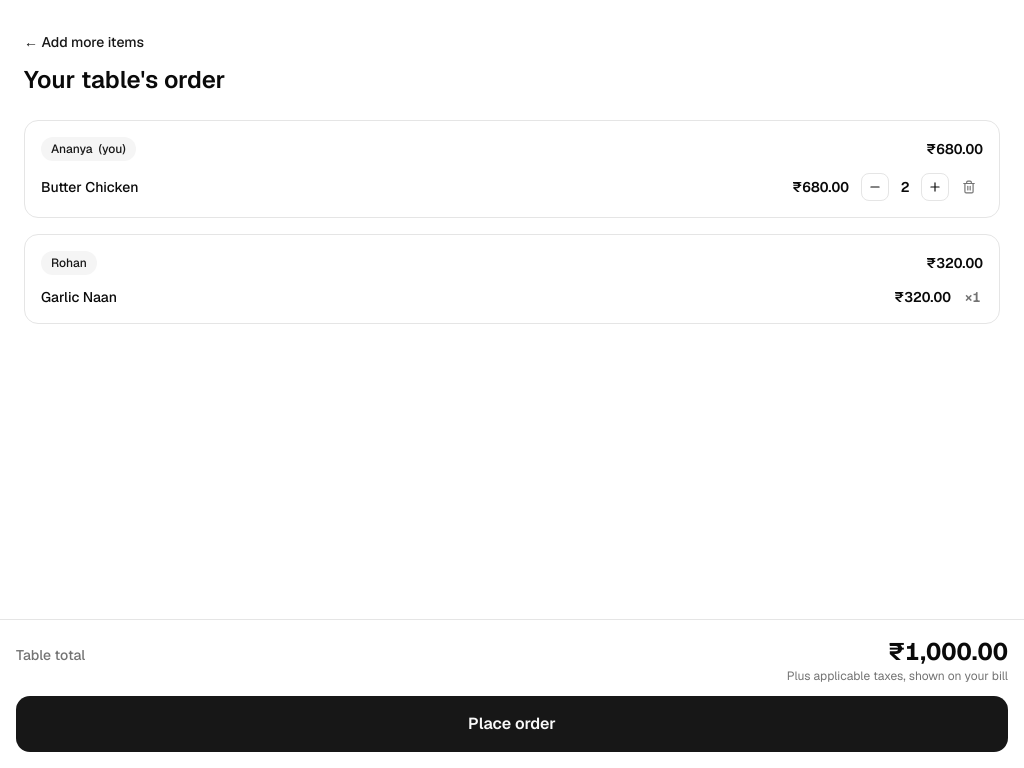
Test: CartScreen - Place order (CAP-4) › shows a plain inline error on no_price
Expected: the list item with test id "cart-line-l1" is shown, [41,173,983,201]
Click the button with test id "cart-place-order".
click(512, 724)  # box [16,696,1008,752]
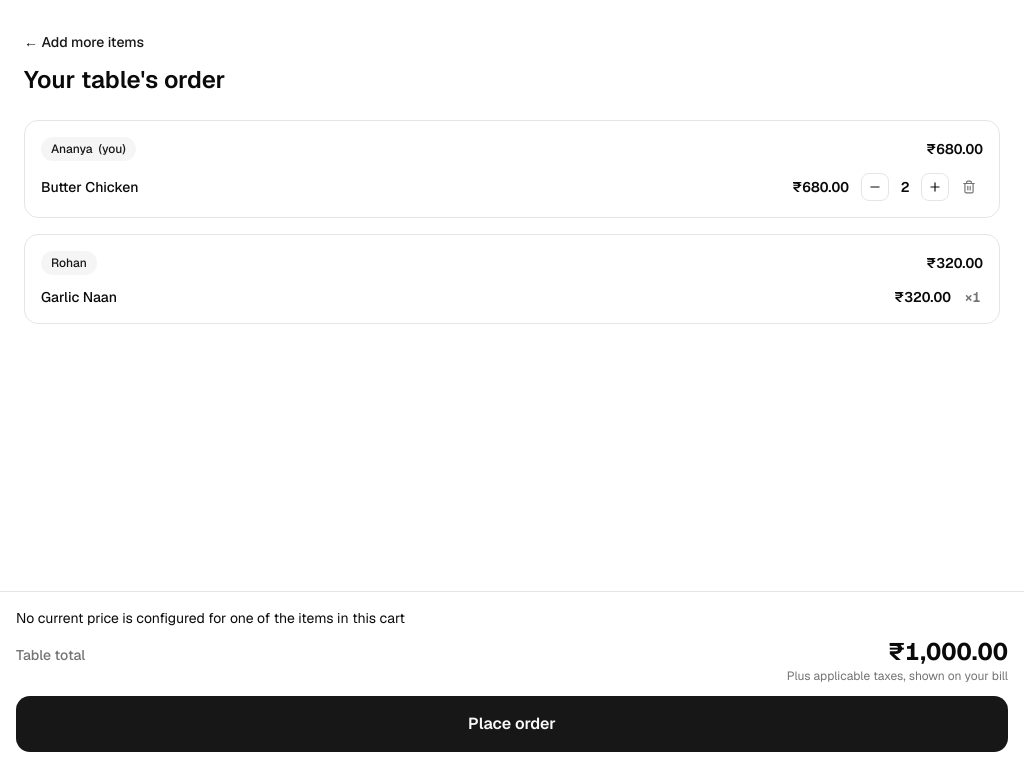
Result: the message with test id "cart-place-order-error" reads "No current price is configured for one of the items in this cart" at [16,609,405,627]
